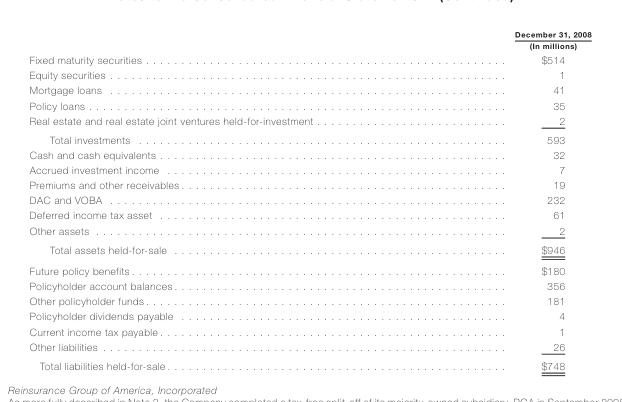table: (28, 29, 590, 370)
table column: (28, 29, 413, 370), (413, 29, 590, 370)
table column header: (28, 29, 590, 51)
table row: (28, 29, 590, 51), (28, 239, 590, 259), (28, 259, 590, 278), (28, 112, 590, 129), (28, 129, 590, 146), (28, 222, 590, 239), (28, 338, 590, 355), (28, 51, 590, 67), (28, 161, 590, 177), (28, 67, 590, 82), (28, 82, 590, 97), (28, 97, 590, 112), (28, 146, 590, 161), (28, 177, 590, 192), (28, 192, 590, 207), (28, 207, 590, 222), (28, 278, 590, 293), (28, 293, 590, 308), (28, 308, 590, 323), (28, 323, 590, 338), (28, 355, 590, 370)
